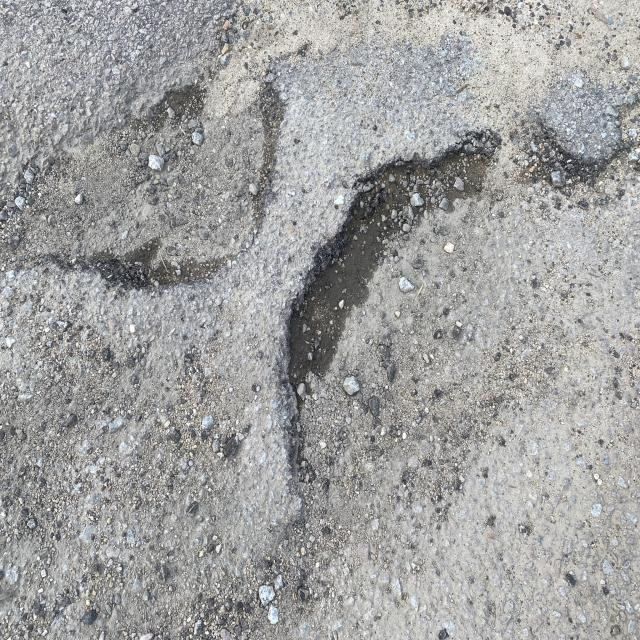pothole: (203, 34, 481, 556)
